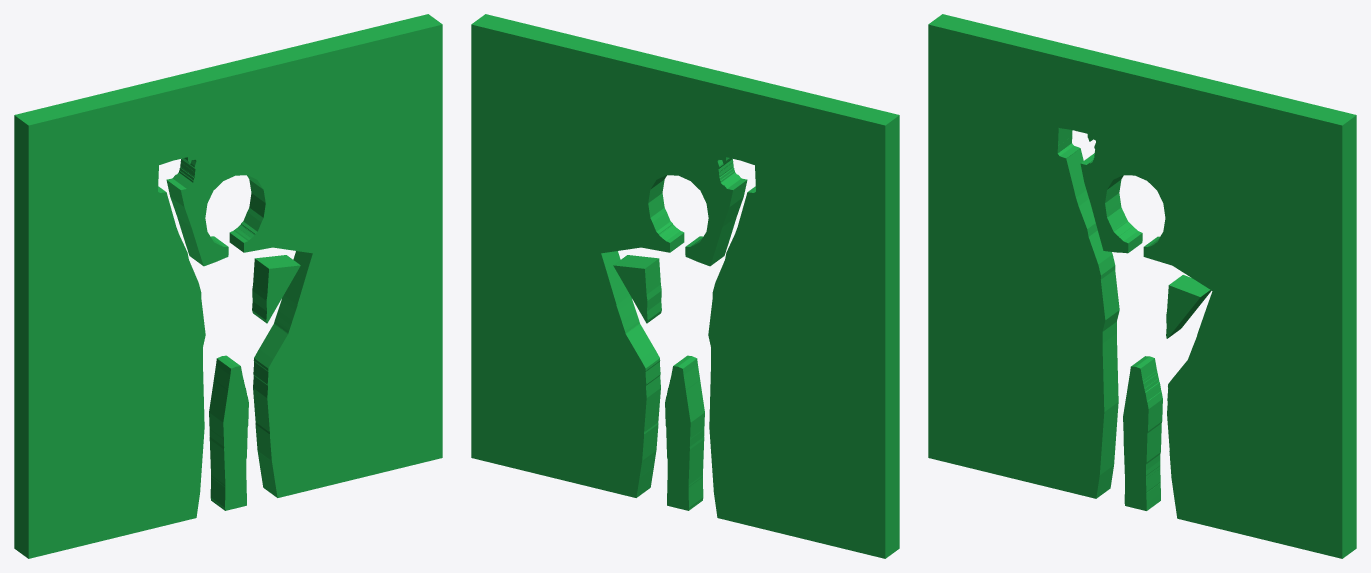
The model's file is PoseBWall.obj.
The picture shows the model from 3 angles, left to right: view 1: azimuth 30°, elevation 25°; view 2: azimuth 150°, elevation 25°; view 3: azimuth 330°, elevation 25°; orthographic projection.
Visible parts, largest first — view 1: PoseBWall; view 2: PoseBWall; view 3: PoseBWall.
Part boxes in pixels (x1,y1,x2,y2): PoseBWall: [14, 14, 442, 558]; PoseBWall: [471, 14, 899, 558]; PoseBWall: [928, 14, 1356, 558].
Size of the model in its own units: 2.5 by 2.5 by 0.15.
Materials: 1 (1 with a texture image).
